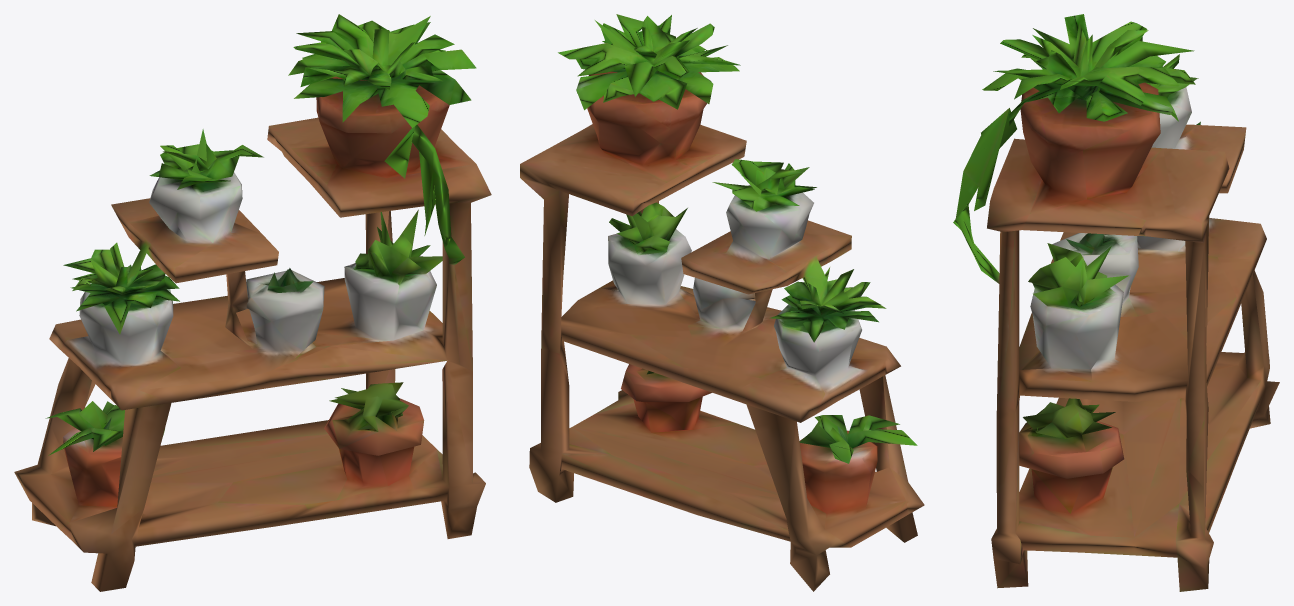
Rendered from shop-home.glb.
The picture shows the model from 3 angles, left to right: view 1: azimuth 30°, elevation 25°; view 2: azimuth 150°, elevation 25°; view 3: azimuth 270°, elevation 25°; orthographic projection. The views are drawn at different scales.
Visible parts, largest first — view 1: tripo_node_e869674b-b9e0-490b-94b0-17cd9b490bf3; view 2: tripo_node_e869674b-b9e0-490b-94b0-17cd9b490bf3; view 3: tripo_node_e869674b-b9e0-490b-94b0-17cd9b490bf3.
Part boxes in pixels (x1,y1,x2,y2): tripo_node_e869674b-b9e0-490b-94b0-17cd9b490bf3: (14,14,491,591); tripo_node_e869674b-b9e0-490b-94b0-17cd9b490bf3: (520,14,924,591); tripo_node_e869674b-b9e0-490b-94b0-17cd9b490bf3: (953,14,1279,591).
Bounding box in the file's own units: 1.11 × 1.3 × 0.7299.
Materials: 1 (1 with a texture image).
